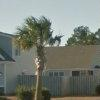Palm tree: (12, 12, 58, 99)
